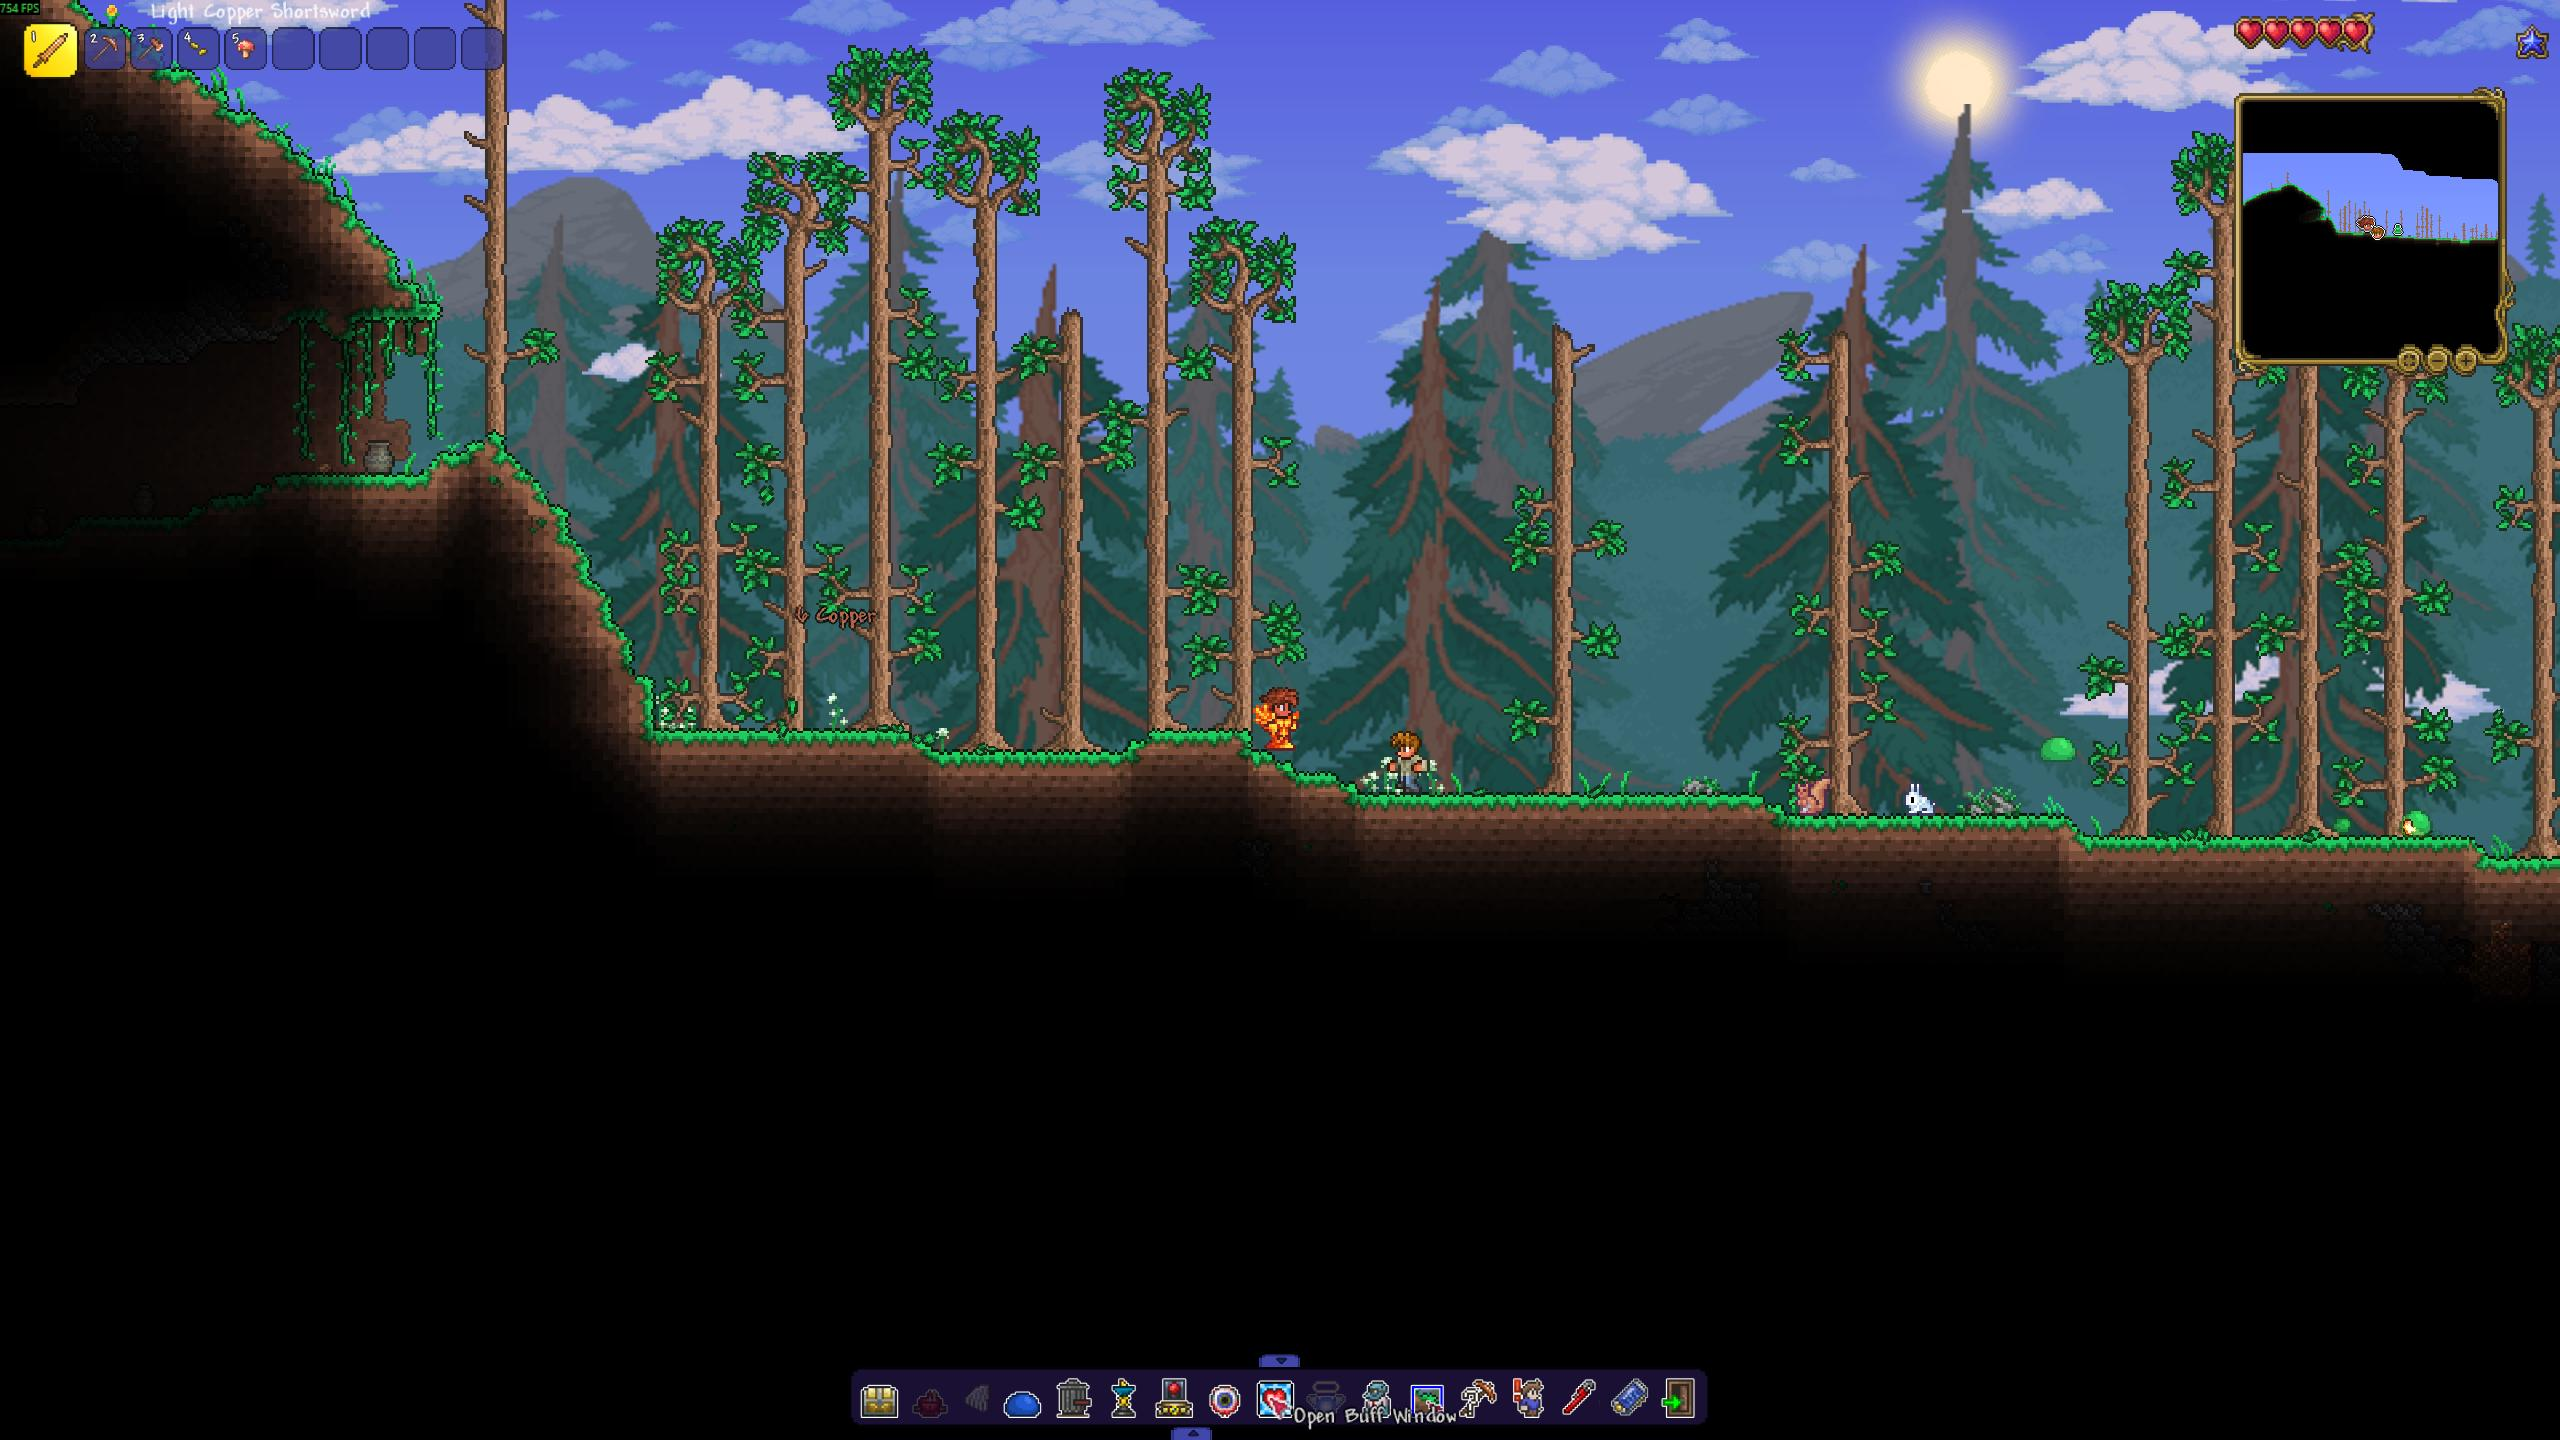Green Slime: (2040, 735, 2078, 765), (2402, 807, 2433, 835)
